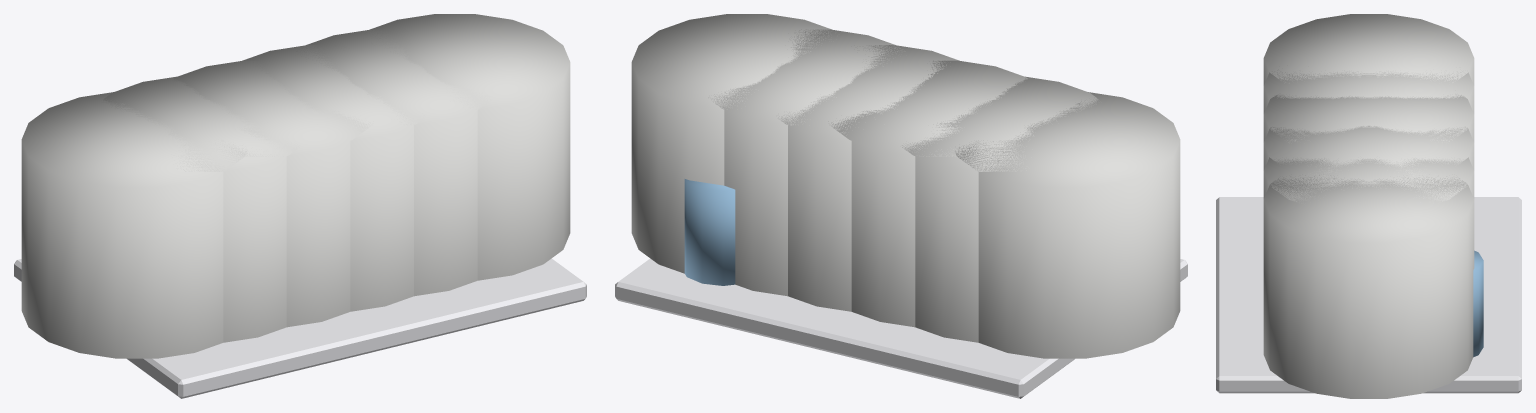
File: dish_rack.glb
3 views of the same model, side by side, from view 1: azimuth 30°, elevation 25°; view 2: azimuth 150°, elevation 25°; view 3: azimuth 270°, elevation 25° (orthographic). The views are drawn at different scales.
Parts seen in each view (by area): view 1: dish_rack; view 2: dish_rack; view 3: dish_rack.
Boxes of the visible parts, <box> form: dish_rack: <box>14,14,586,398</box>; dish_rack: <box>615,14,1187,398</box>; dish_rack: <box>1216,14,1521,398</box>.
Bounding box in the file's own units: 0.5667 × 0.2 × 0.32.
